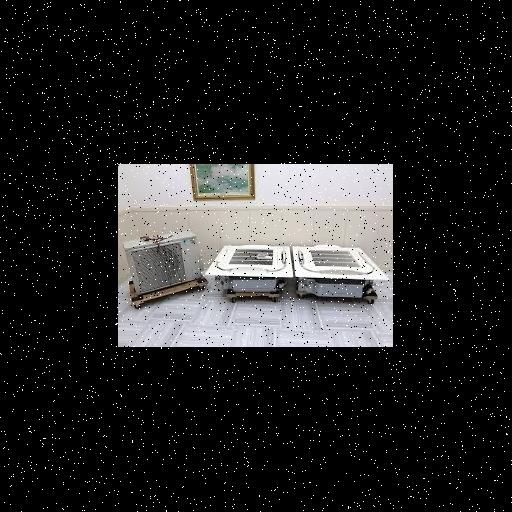4-way-ac: (294, 247, 390, 281), (204, 246, 294, 278)
